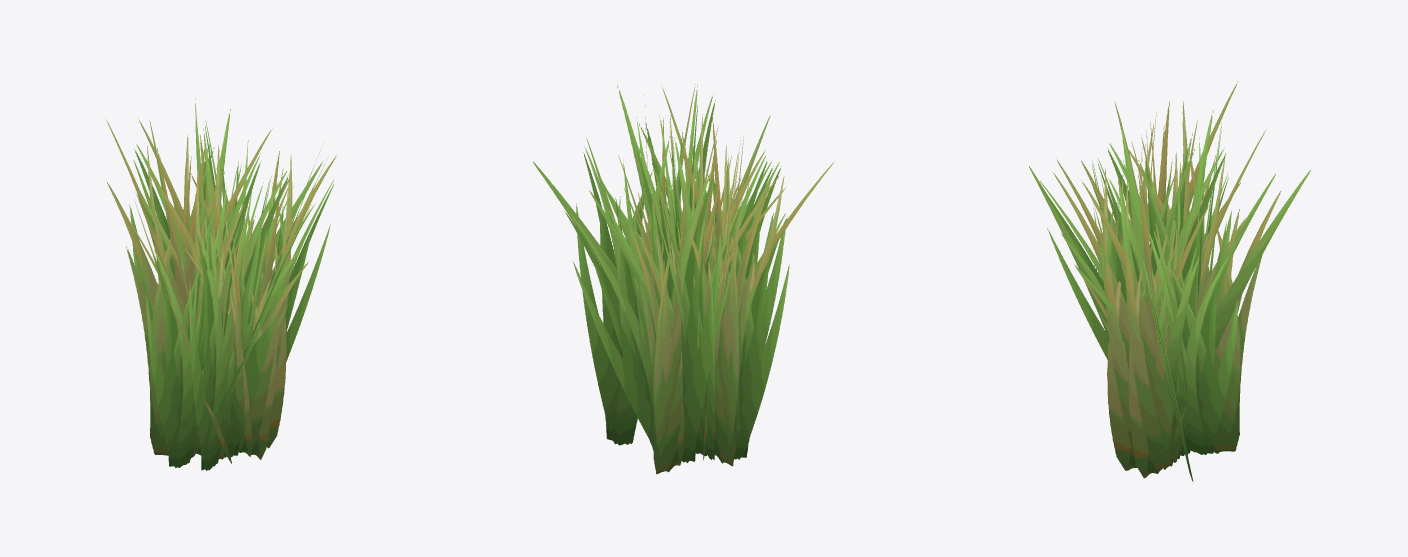
Rendered from grass_b.glb.
3 views of the same model, side by side, from view 1: azimuth 30°, elevation 25°; view 2: azimuth 150°, elevation 25°; view 3: azimuth 270°, elevation 25° (orthographic). The views are drawn at different scales.
Visible parts, largest first — view 1: leaves; view 2: leaves; view 3: leaves.
Boxes of the visible parts, <box> form: leaves: <box>105,98,336,470</box>; leaves: <box>533,83,835,474</box>; leaves: <box>1029,81,1311,481</box>.
Bounding box in the file's own units: 0.7262 × 0.6948 × 0.736.
1 material, 1 textured.
